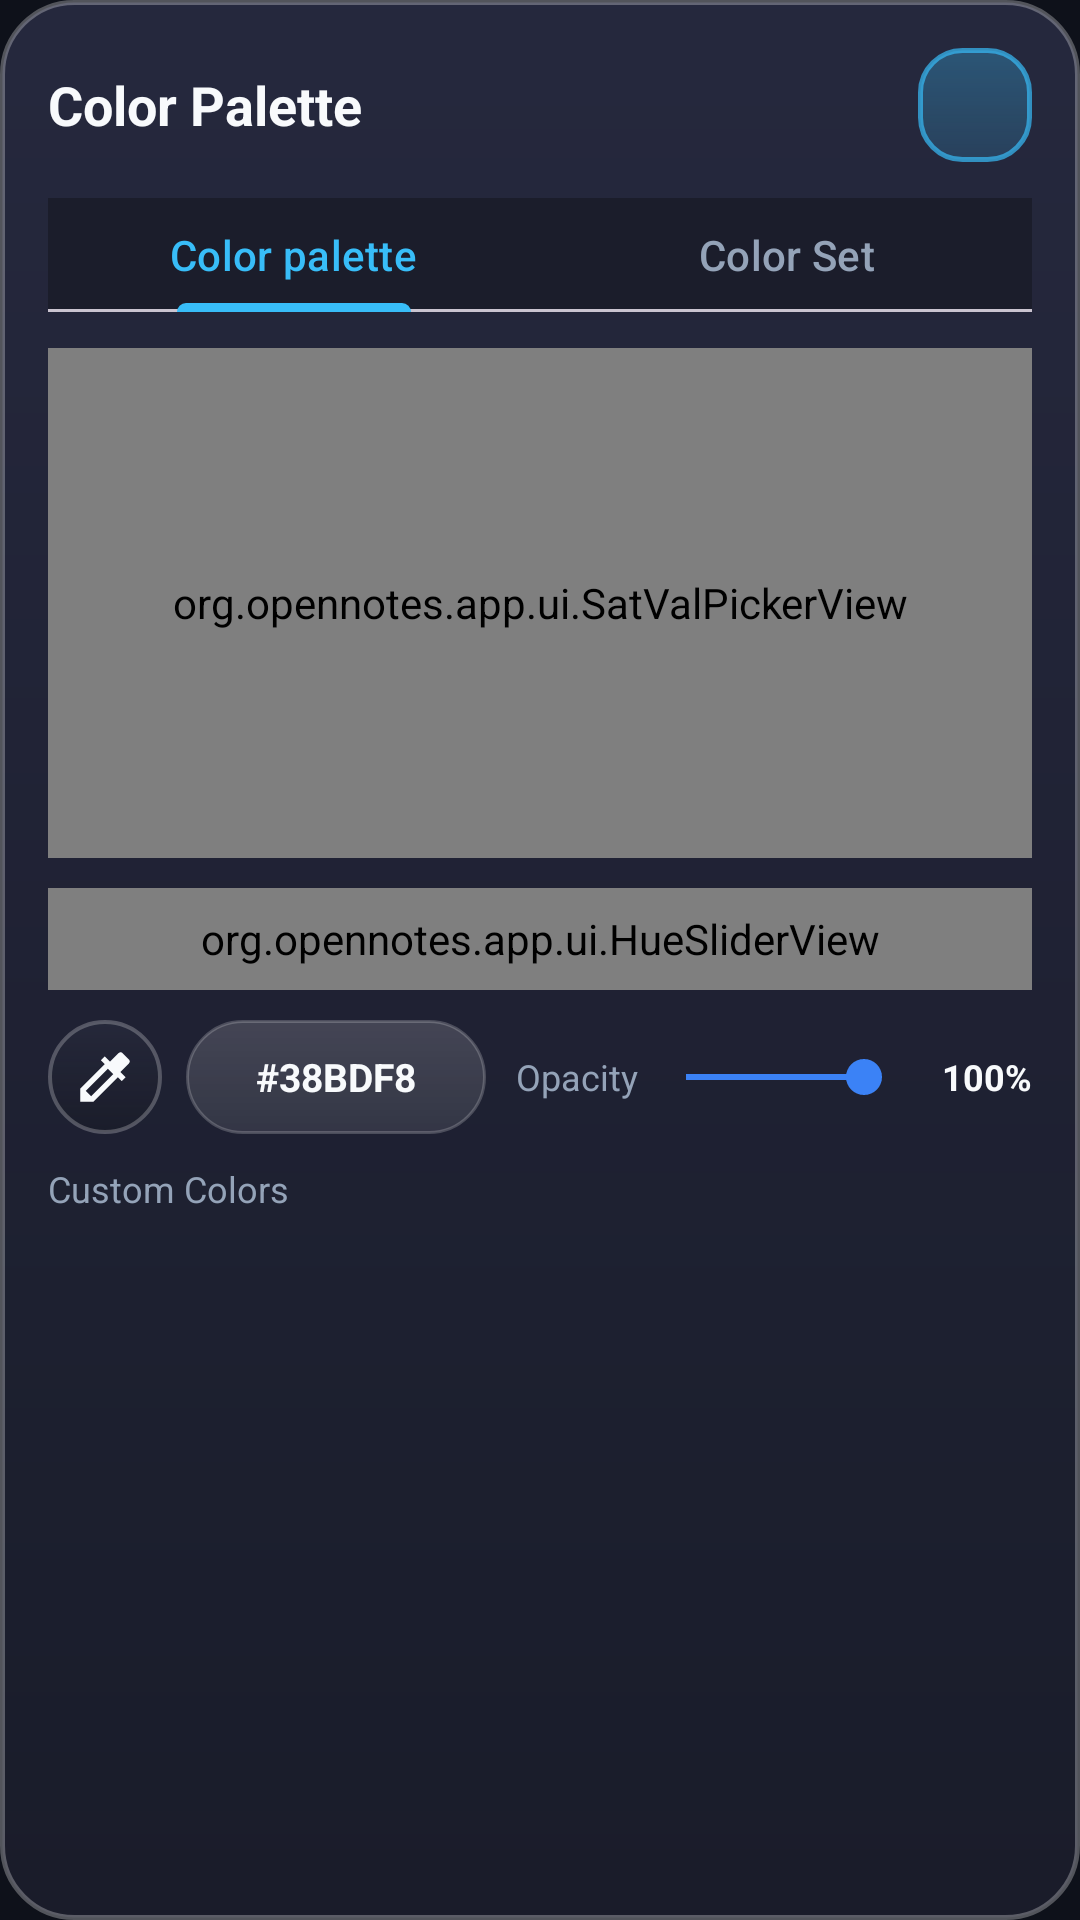

Point at icon controls on the screen. Image size 1080 x 1920, points as [x,y].
eyedropper: [105,1077]
